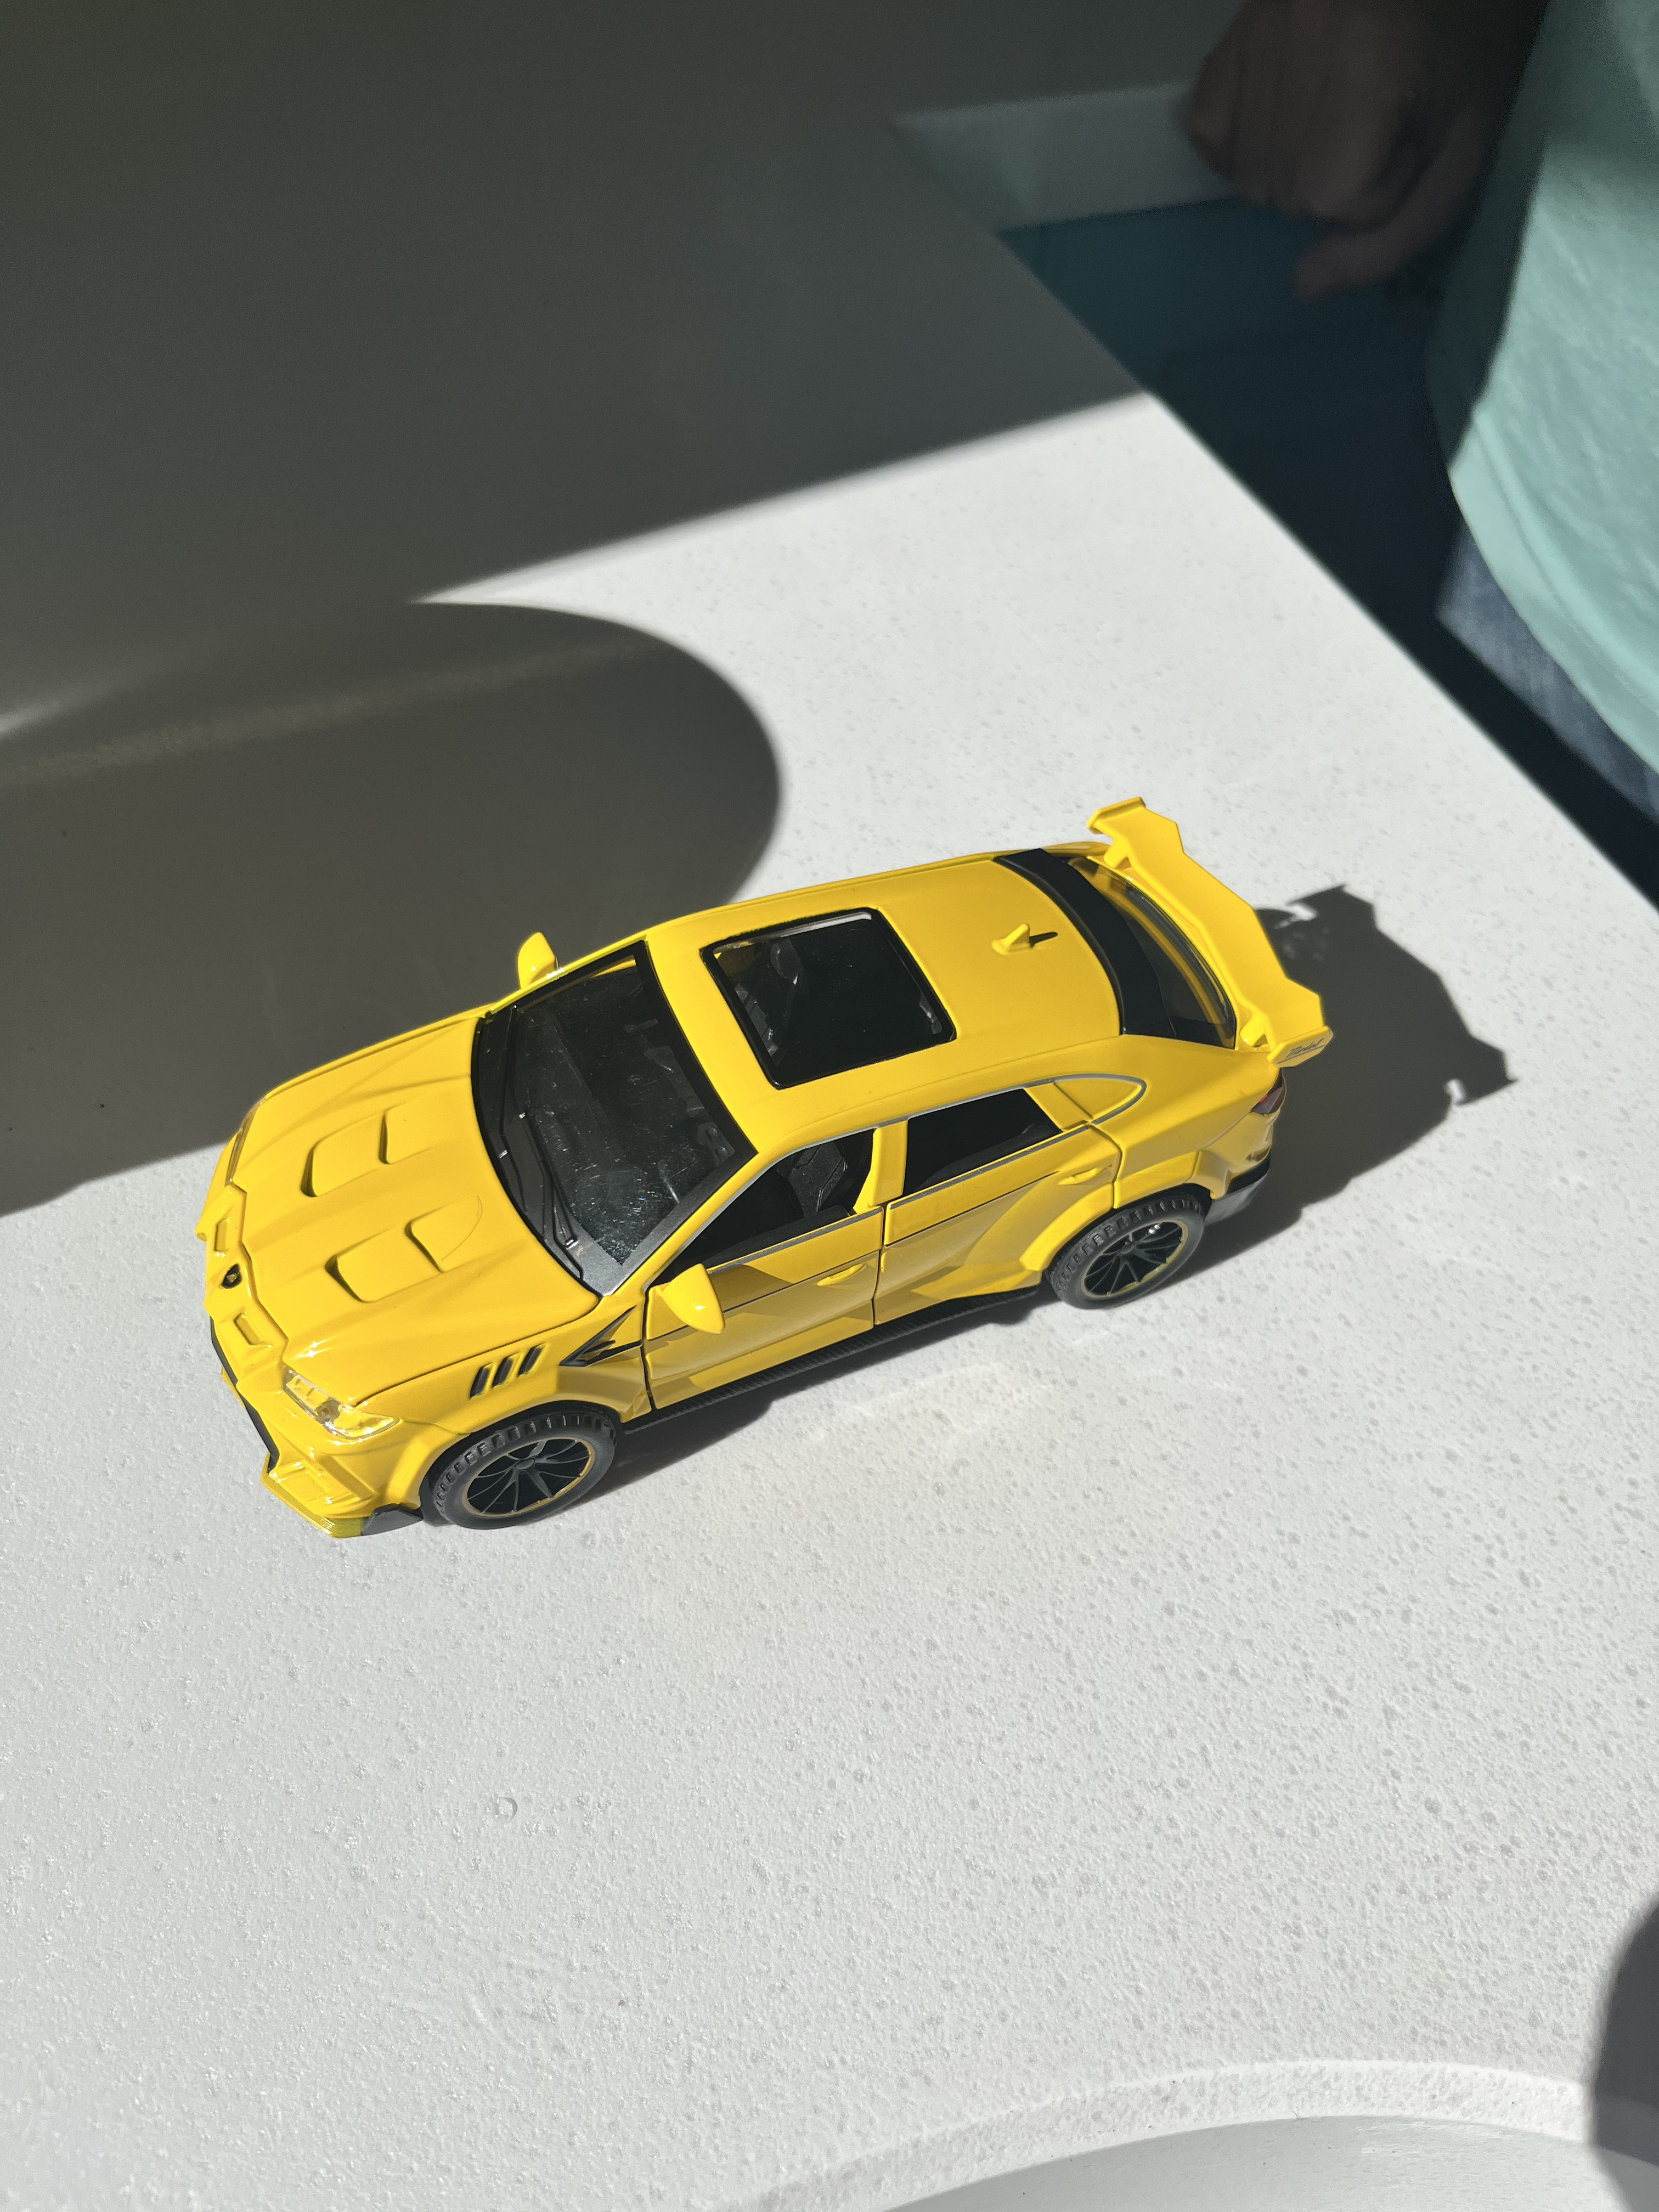lambo: (178, 780, 1351, 1590)
